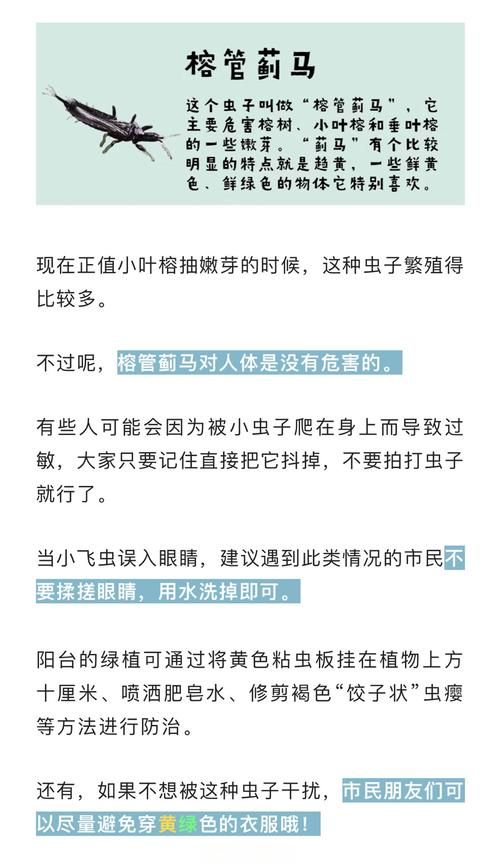Phlaeothripidae: (42, 81, 180, 169)
